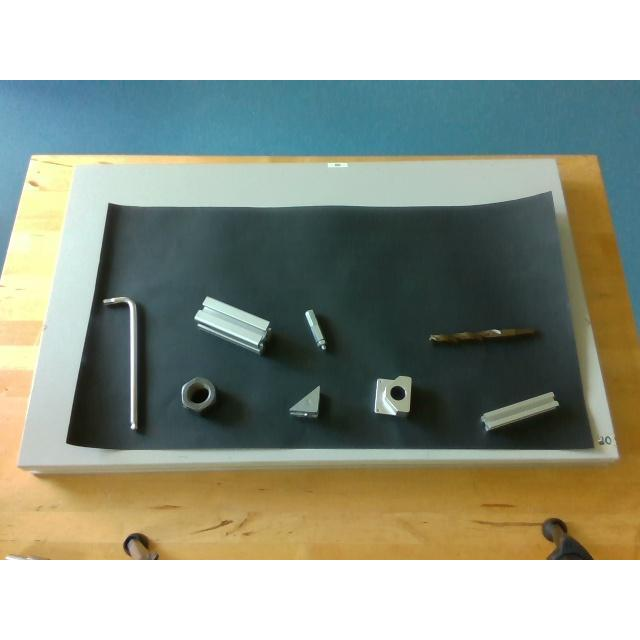AllenKey: (102, 296, 138, 432)
Drill: (429, 326, 535, 344)
F20_20_G: (480, 391, 558, 429)
M30: (180, 377, 216, 411)
S40_40_G: (194, 296, 270, 352)
